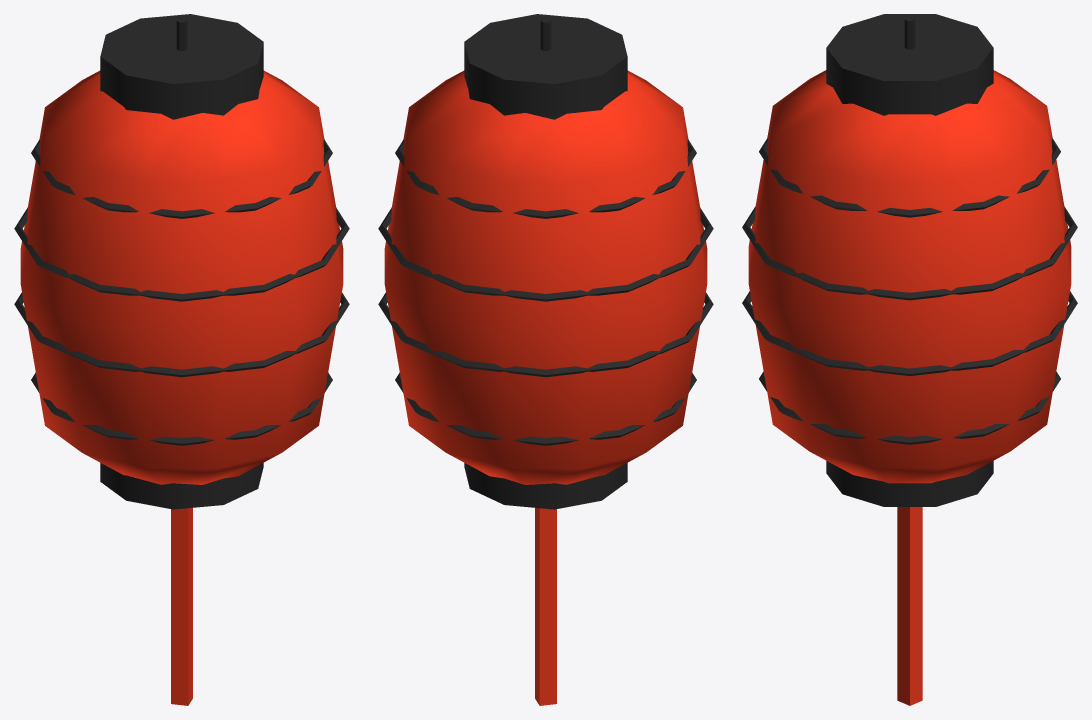
File: St_Lantern_Paper.fbx
The picture shows the model from 3 angles, left to right: view 1: azimuth 30°, elevation 25°; view 2: azimuth 150°, elevation 25°; view 3: azimuth 270°, elevation 25°; orthographic projection.
Visible parts, largest first — view 1: St_Lantern_Paper_LOD0; view 2: St_Lantern_Paper_LOD0; view 3: St_Lantern_Paper_LOD0.
Boxes of the visible parts, bbox=[...] form: St_Lantern_Paper_LOD0: bbox=[14, 14, 349, 705]; St_Lantern_Paper_LOD0: bbox=[378, 14, 713, 705]; St_Lantern_Paper_LOD0: bbox=[742, 14, 1077, 705].
Size of what is drawn, in the model's own units: 0.3216 by 0.72 by 0.3216.
